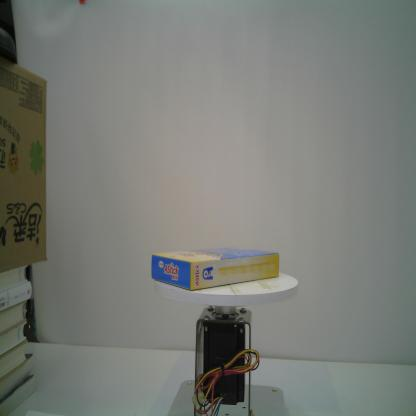Dessert: (150, 245, 280, 292)
